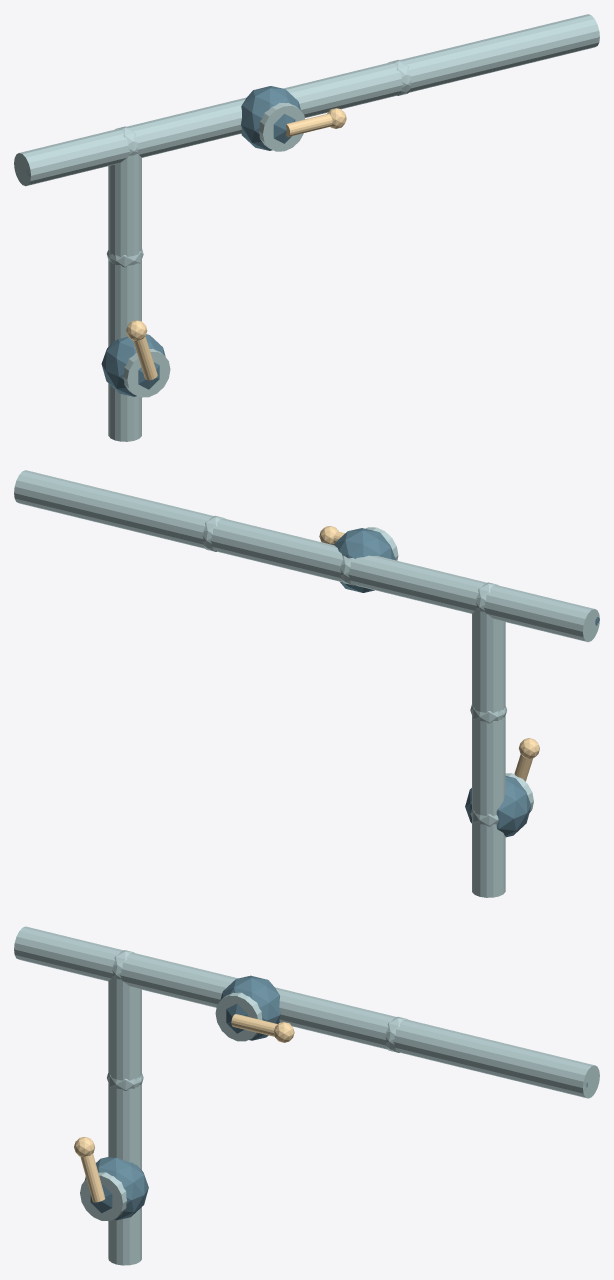
File: air-10-0.glb
3 renders of one model, top to bottom at view 1: azimuth 30°, elevation 25°; view 2: azimuth 150°, elevation 25°; view 3: azimuth 330°, elevation 25°, orthographic.
Parts seen in each view (by area): view 1: pipe, dark, handle; view 2: pipe, dark, handle; view 3: pipe, dark, handle.
Boxes of the visible parts, x1=… form: pipe: x1=14, y1=14, x2=599, y2=441; dark: x1=26, y1=86, x2=300, y2=396; handle: x1=126, y1=108, x2=346, y2=380; pipe: x1=14, y1=470, x2=599, y2=897; dark: x1=334, y1=528, x2=599, y2=837; handle: x1=319, y1=526, x2=539, y2=781; pipe: x1=14, y1=926, x2=599, y2=1265; dark: x1=84, y1=975, x2=587, y2=1220; handle: x1=74, y1=1014, x2=294, y2=1202.
Bounding box in the file's own units: 2.77 × 1.49 × 0.343.
